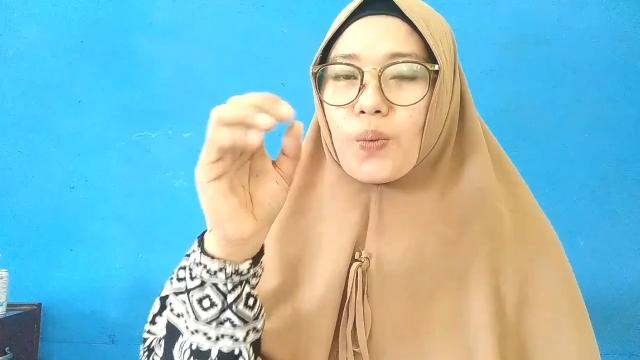O: (192, 87, 308, 243)
